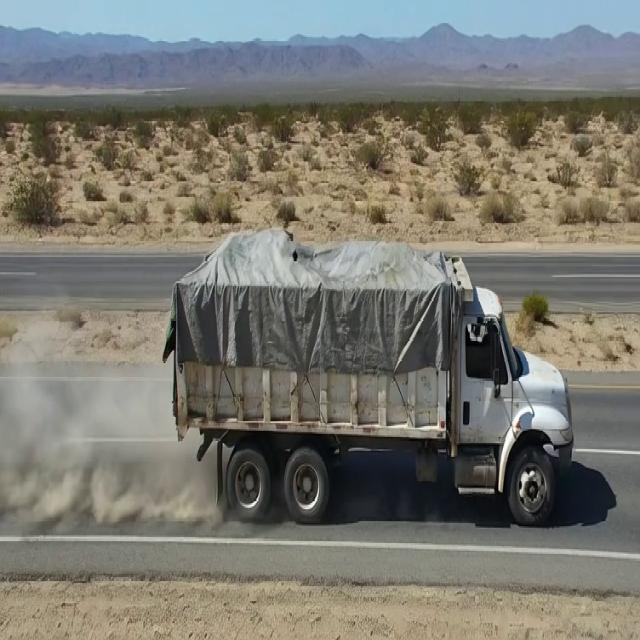trailer: (171, 237, 482, 330)
truck: (154, 194, 575, 524)
